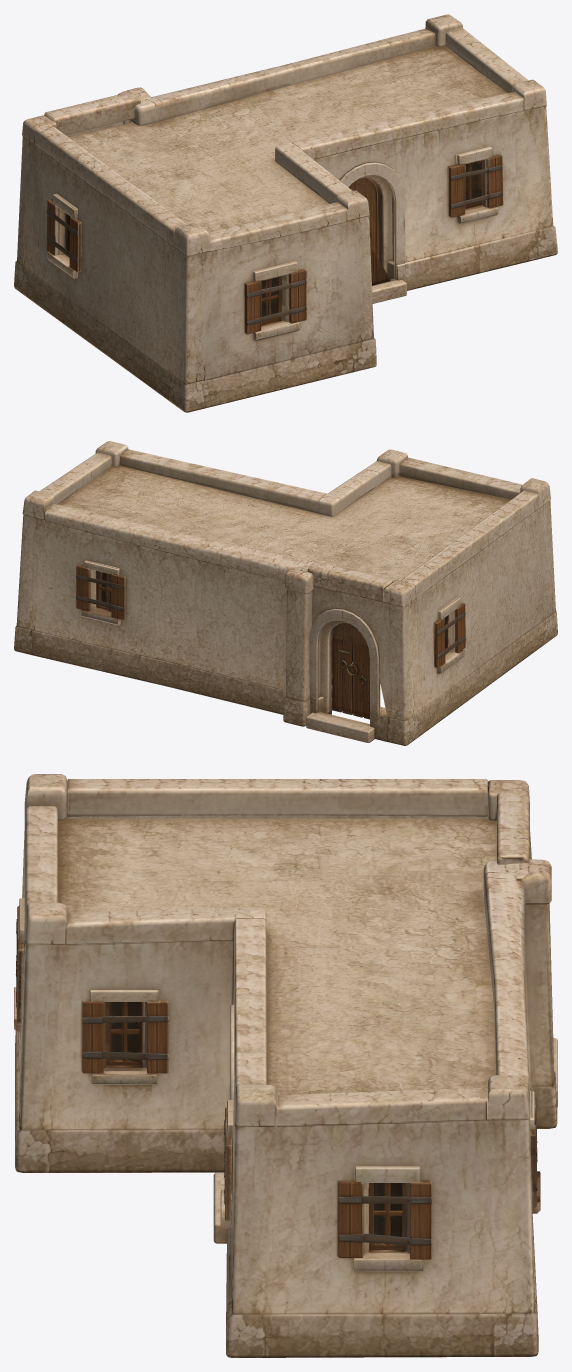
Rendered from generated-1948-05-plastered-courtyard-house-original.glb.
3 renders of one model, top to bottom at view 1: azimuth 30°, elevation 25°; view 2: azimuth 150°, elevation 25°; view 3: azimuth 270°, elevation 25°, orthographic. The views are drawn at different scales.
Parts seen in each view (by area): view 1: tripo_node_f103194e-1dbb-489c-b884-4ba186932825; view 2: tripo_node_f103194e-1dbb-489c-b884-4ba186932825; view 3: tripo_node_f103194e-1dbb-489c-b884-4ba186932825.
Boxes of the visible parts, x1=… form: tripo_node_f103194e-1dbb-489c-b884-4ba186932825: x1=14, y1=14, x2=557, y2=412; tripo_node_f103194e-1dbb-489c-b884-4ba186932825: x1=14, y1=441, x2=557, y2=745; tripo_node_f103194e-1dbb-489c-b884-4ba186932825: x1=14, y1=774, x2=557, y2=1357.
Bounding box in the file's own units: 0.9995 × 0.3726 × 0.6958.
1 material, 1 textured.
